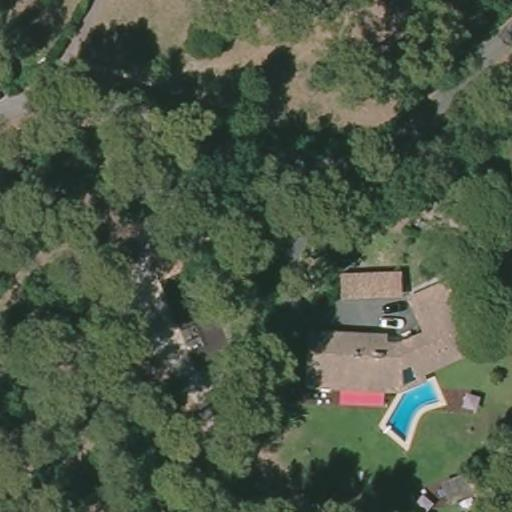pool: (378, 376, 443, 445)
